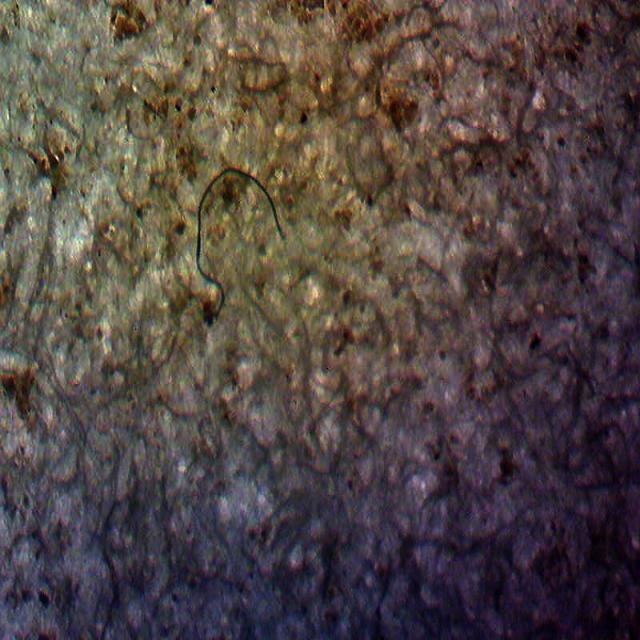microplastic: (195, 162, 282, 320)
